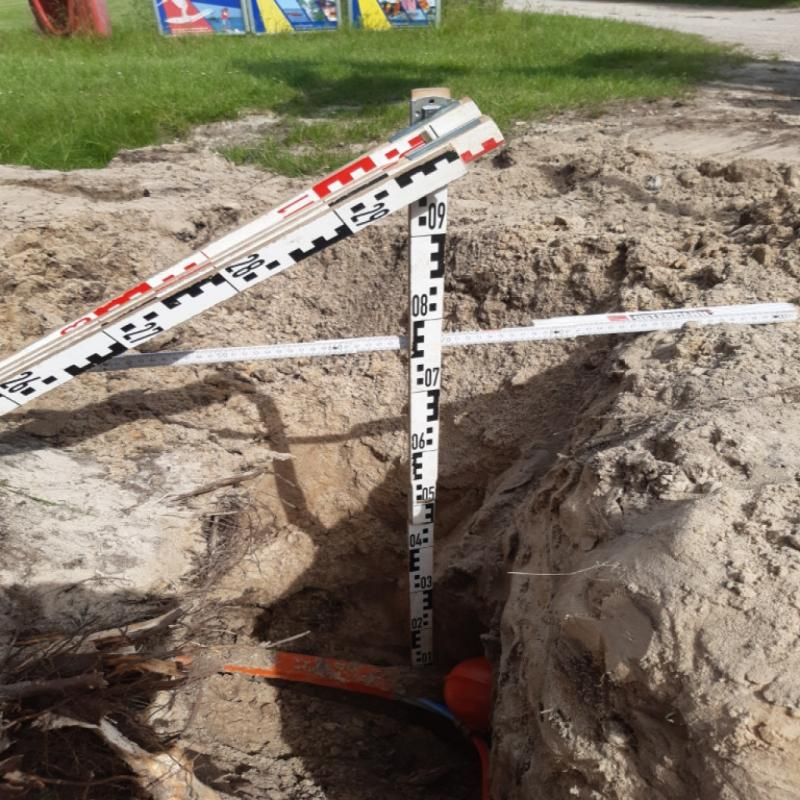Kugelmarker: (441, 656, 497, 729)
Orang-Speednetrohrchen: (268, 651, 473, 739)
